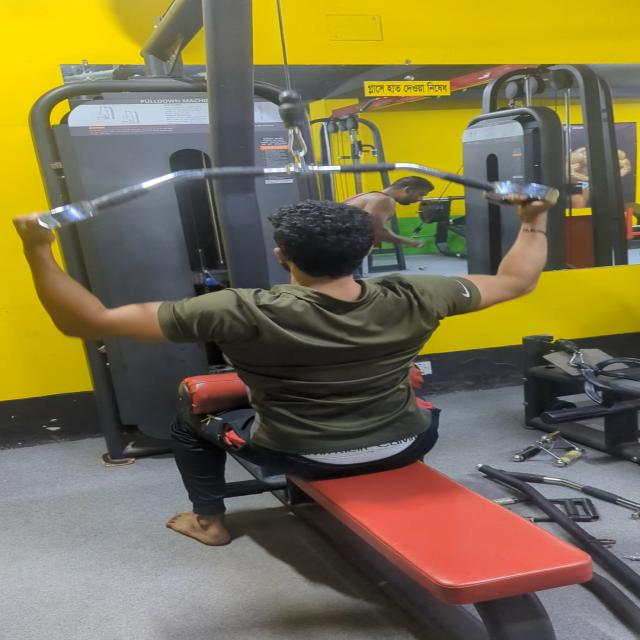Normal_LatPulldown: (0, 70, 640, 608)
